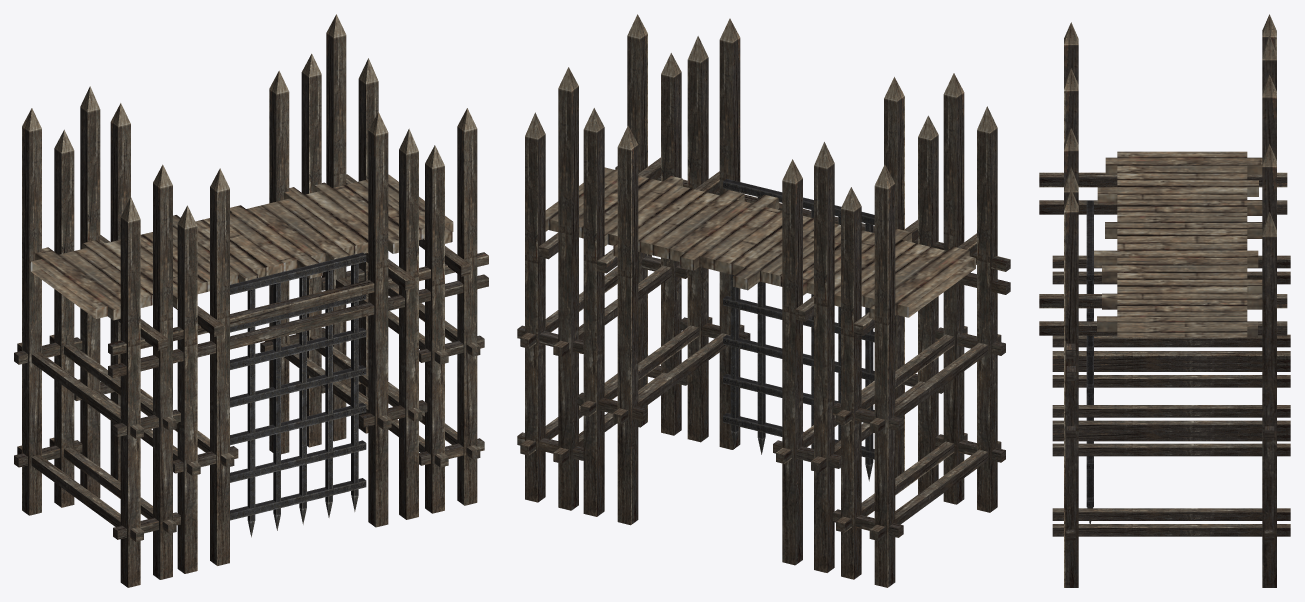
The model's file is SC_yonghengsenlin_02.FBX.
The picture shows the model from 3 angles, left to right: view 1: azimuth 30°, elevation 25°; view 2: azimuth 150°, elevation 25°; view 3: azimuth 270°, elevation 25°; orthographic projection. The views are drawn at different scales.
Parts seen in each view (by area): view 1: SC_yonghengsenlin_02, SC_yonghengsenlin_02men; view 2: SC_yonghengsenlin_02, SC_yonghengsenlin_02men; view 3: SC_yonghengsenlin_02, SC_yonghengsenlin_02men.
Part boxes in pixels (bbox=[...]): SC_yonghengsenlin_02: bbox=[14, 14, 488, 587]; SC_yonghengsenlin_02men: bbox=[230, 252, 366, 537]; SC_yonghengsenlin_02: bbox=[517, 14, 1010, 587]; SC_yonghengsenlin_02men: bbox=[723, 179, 874, 481]; SC_yonghengsenlin_02: bbox=[1039, 14, 1290, 587]; SC_yonghengsenlin_02men: bbox=[1086, 200, 1093, 523].
Bounding box in the file's own units: 668 × 718 × 385.
